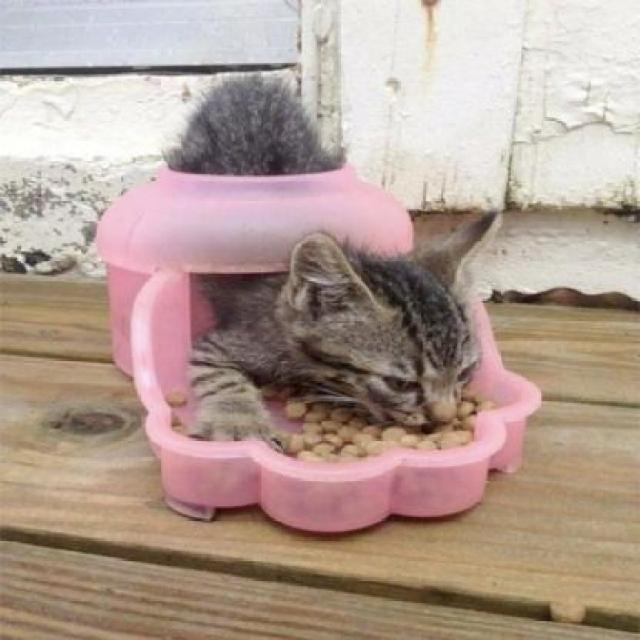cat: (242, 227, 522, 436)
